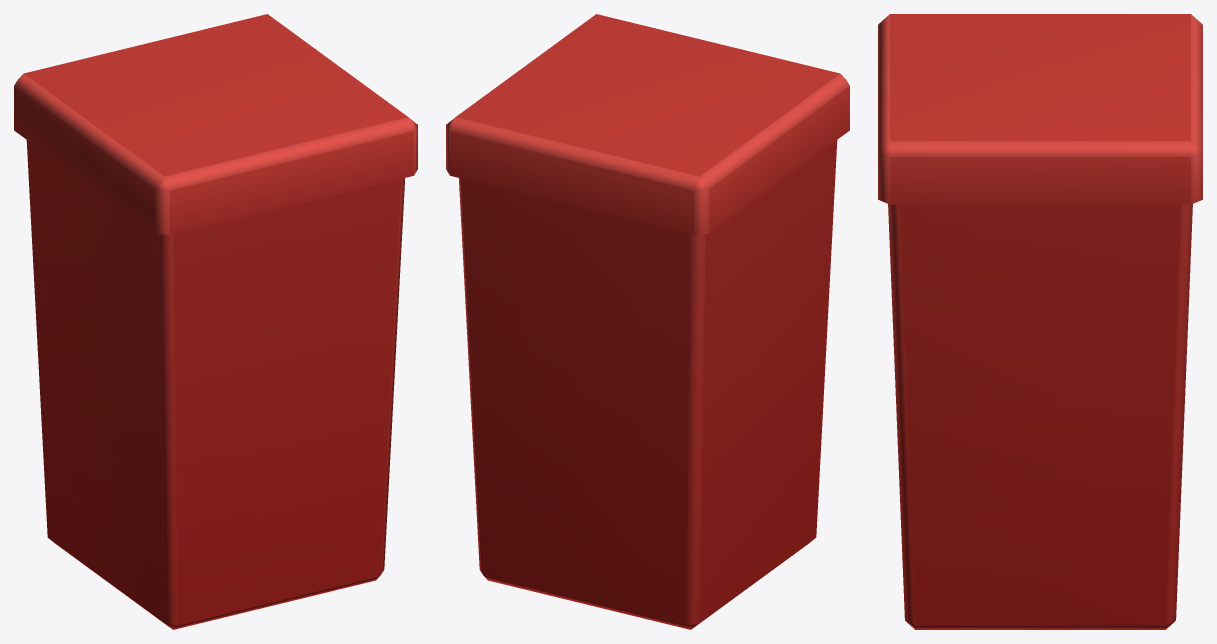
File: giftbox_005.fbx
3 renders of one model, left to right at view 1: azimuth 30°, elevation 25°; view 2: azimuth 150°, elevation 25°; view 3: azimuth 270°, elevation 25°, orthographic. The views are drawn at different scales.
Visible parts, largest first — view 1: giftbox_005; view 2: giftbox_005; view 3: giftbox_005.
Boxes of the visible parts, x1,y1,x2,y2 form: giftbox_005: (14, 14, 417, 629); giftbox_005: (446, 14, 849, 629); giftbox_005: (878, 14, 1202, 629).
Bounding box in the file's own units: 234 × 234 × 397.
